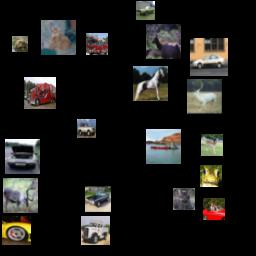automobile: (190, 38, 228, 76), (5, 139, 40, 174), (2, 216, 31, 245), (85, 186, 111, 212), (203, 198, 225, 220), (136, 1, 155, 20), (77, 119, 96, 138)
cat: (41, 20, 76, 55), (173, 188, 195, 210)
deer: (187, 79, 222, 114), (3, 178, 38, 213), (146, 24, 181, 59), (201, 134, 223, 156)
frog: (200, 165, 222, 187), (12, 36, 28, 52)
ship: (146, 129, 181, 164)
truck: (24, 77, 56, 109), (81, 216, 110, 245), (86, 33, 108, 55)
